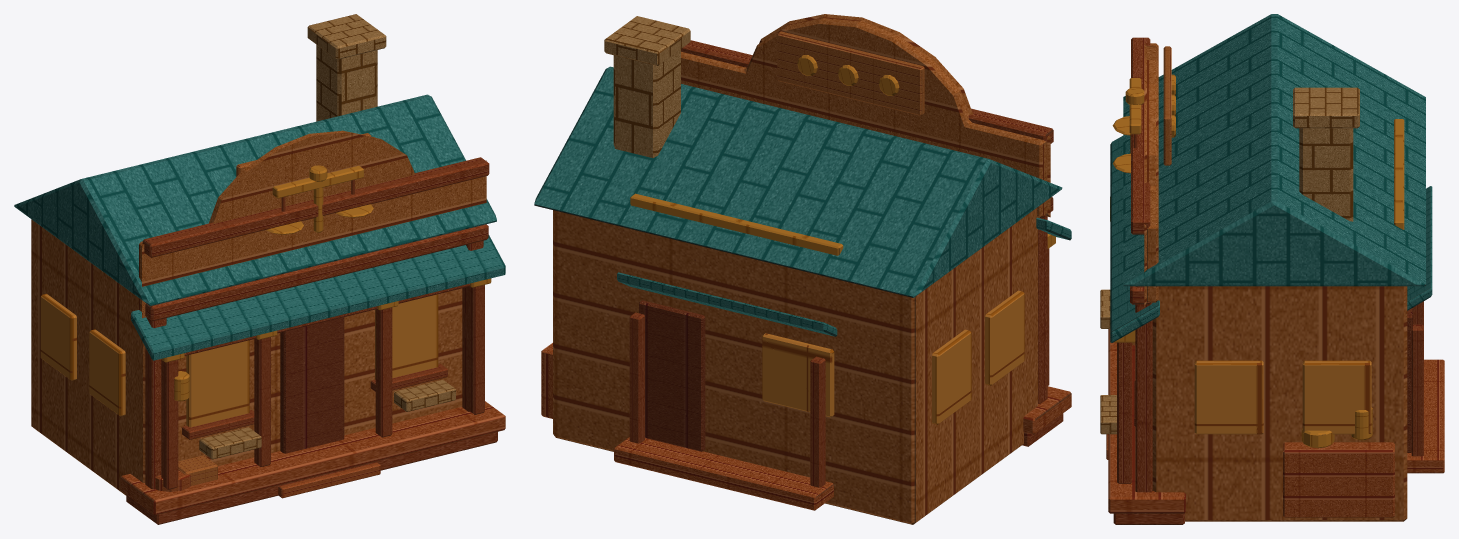
File: assay-office.glb
3 views of the same model, side by side, from view 1: azimuth 30°, elevation 25°; view 2: azimuth 150°, elevation 25°; view 3: azimuth 270°, elevation 25° (orthographic). The views are drawn at different scales.
Visible parts, largest first — view 1: AssayOfficeFullWrap; view 2: AssayOfficeFullWrap; view 3: AssayOfficeFullWrap.
Boxes of the visible parts, <box> form: AssayOfficeFullWrap: <box>14,14,505,524</box>; AssayOfficeFullWrap: <box>534,14,1071,524</box>; AssayOfficeFullWrap: <box>1100,14,1444,524</box>.
Bounding box in the file's own units: 4.42 × 4.2 × 3.32.
Materials: 1 (1 with a texture image).
